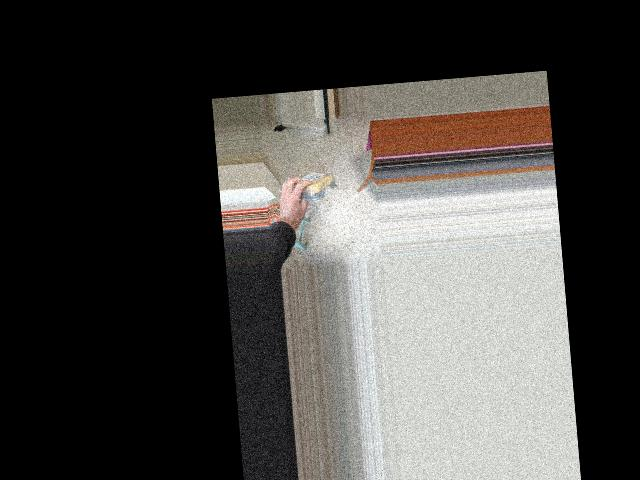cheese: (283, 167, 339, 204)
